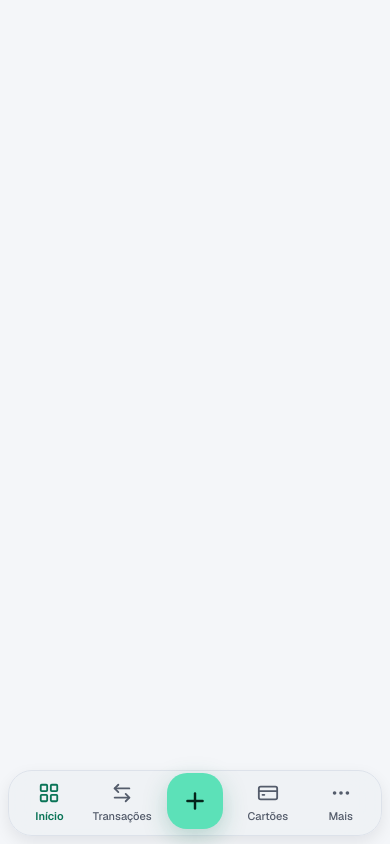
it: BottomNav › opens the quick actions menu from the FAB
The image size is (390, 844).
Click the button named "Novo lançamento" at coordinates (195, 801), box x1=167 y1=773 x2=223 y2=829
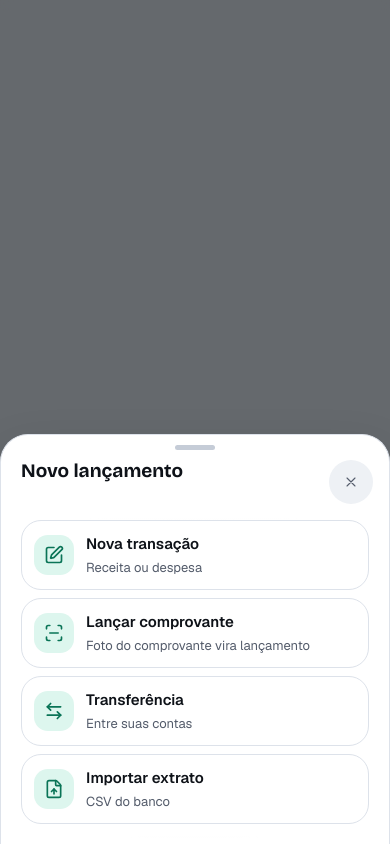
Result: the text "Nova transação" is shown at x1=86 y1=533 x2=202 y2=556
Result: the text "Lançar comprovante" is shown at x1=86 y1=612 x2=234 y2=631
Result: the text "Transferência" is shown at x1=86 y1=689 x2=192 y2=712
